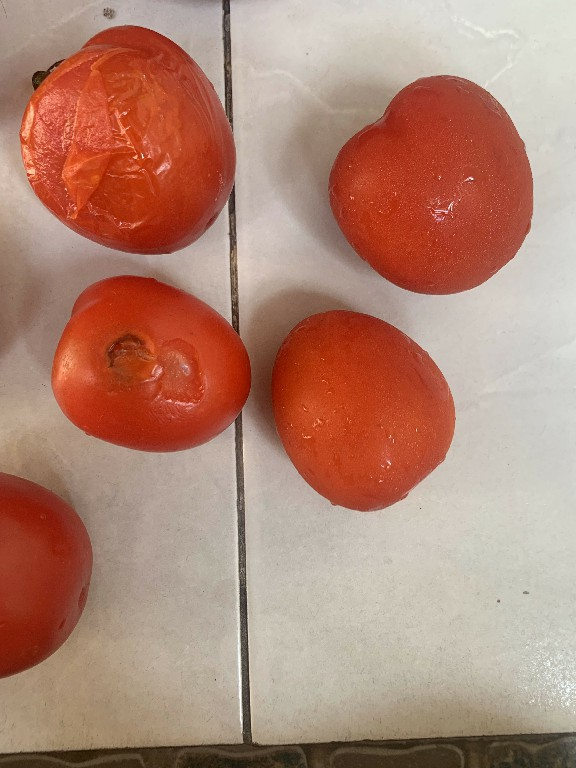NG: (17, 12, 242, 259), (39, 263, 264, 465)
OK: (322, 61, 547, 309), (259, 304, 470, 520)
